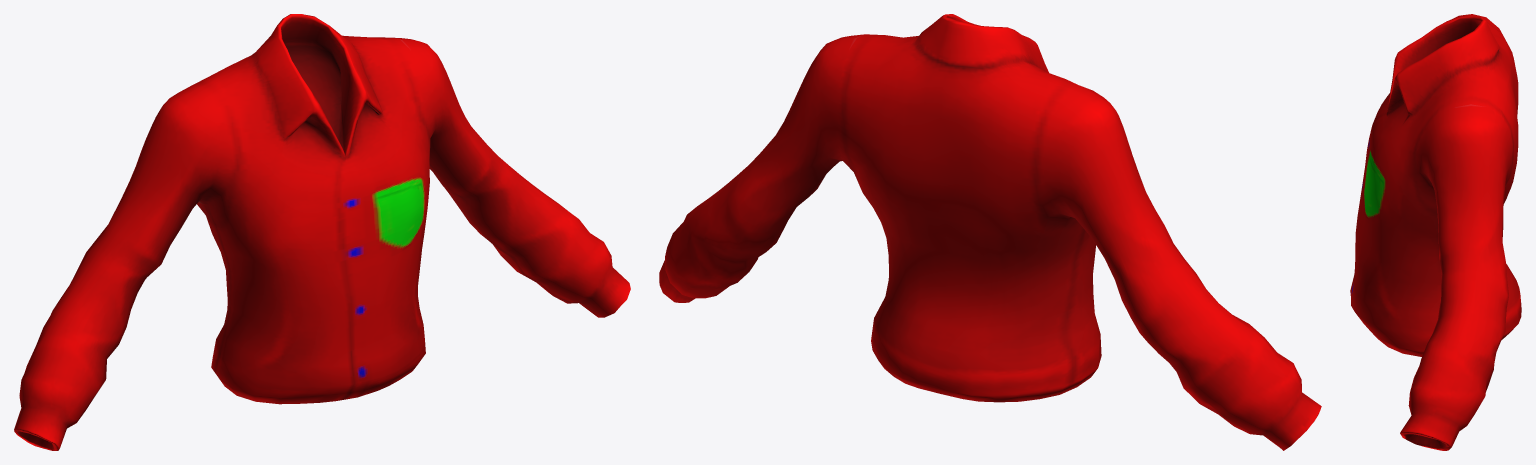
The model's file is Top_DressShirt.obj.
The picture shows the model from 3 angles, left to right: view 1: azimuth 30°, elevation 25°; view 2: azimuth 150°, elevation 25°; view 3: azimuth 270°, elevation 25°; orthographic projection. The views are drawn at different scales.
Visible parts, largest first — view 1: Top_DressShirt_0; view 2: Top_DressShirt_0; view 3: Top_DressShirt_0.
Boxes of the visible parts, <box> form: Top_DressShirt_0: <box>14,14,630,450</box>; Top_DressShirt_0: <box>659,14,1321,450</box>; Top_DressShirt_0: <box>1350,14,1521,450</box>.
Bounding box in the file's own units: 0.8689 × 0.4766 × 0.2388.
Materials: 1 (1 with a texture image).
